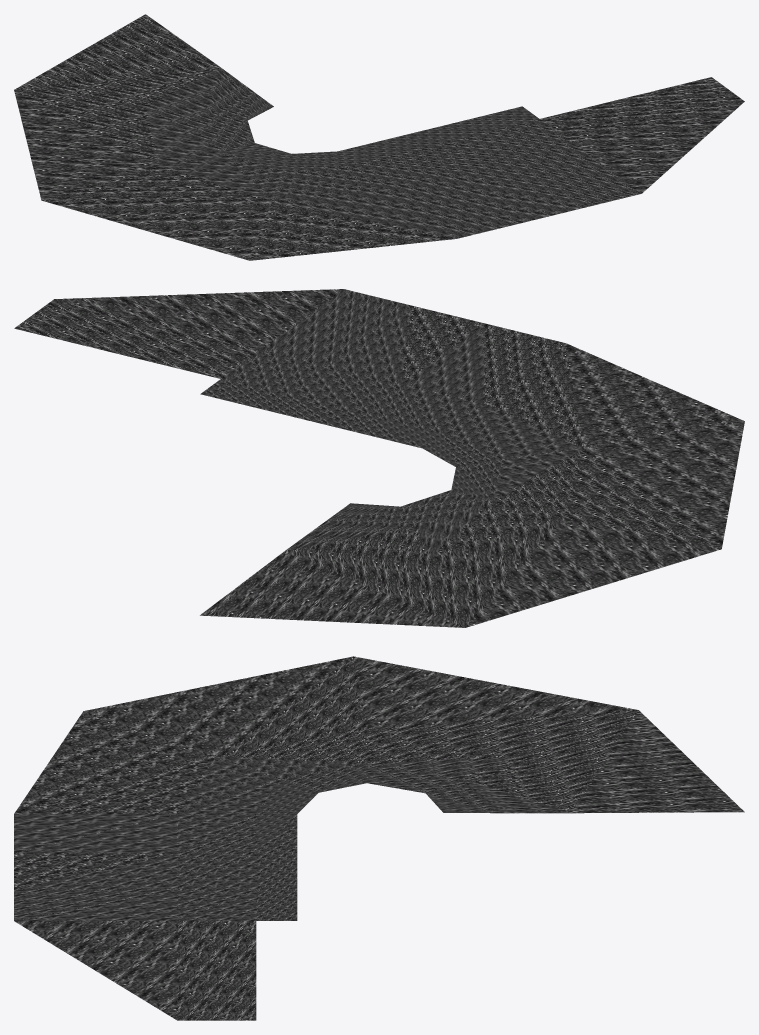
File: Water1.obj
3 views of the same model, one above another, from view 1: azimuth 30°, elevation 25°; view 2: azimuth 150°, elevation 25°; view 3: azimuth 270°, elevation 25° (orthographic). The views are drawn at different scales.
Visible parts, largest first — view 1: Object_2; view 2: Object_2; view 3: Object_2.
Boxes of the visible parts, x1,y1,x2,y2 form: Object_2: (14, 14, 744, 260); Object_2: (14, 289, 744, 627); Object_2: (14, 656, 744, 1020).
Size of the model in its own units: 9945 by 0 by 8436.
